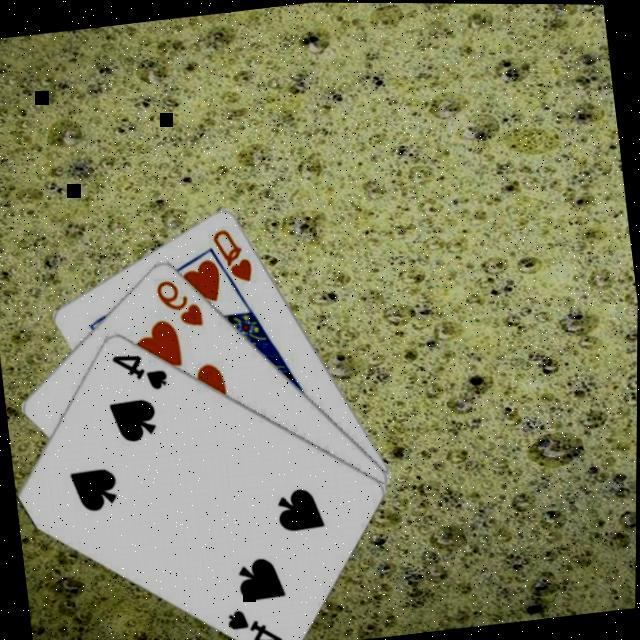4S: (107, 343, 171, 394), (222, 598, 285, 640)
9H: (150, 269, 206, 331)
QH: (207, 219, 256, 285)
